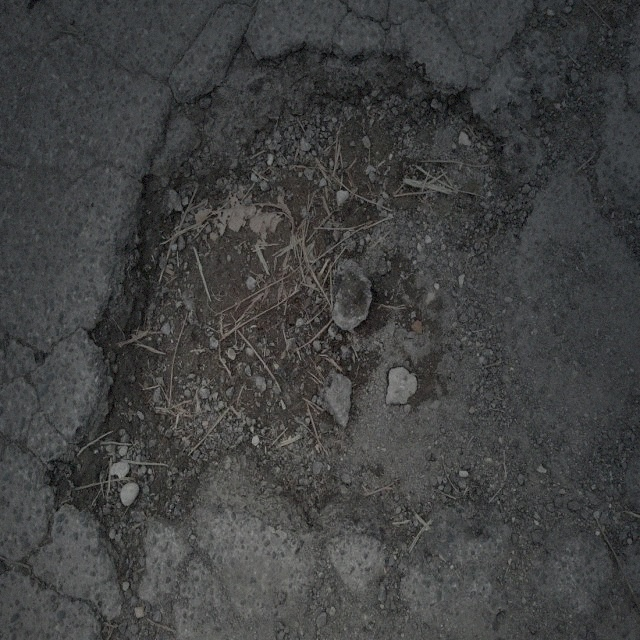pothole: (71, 31, 543, 569)
